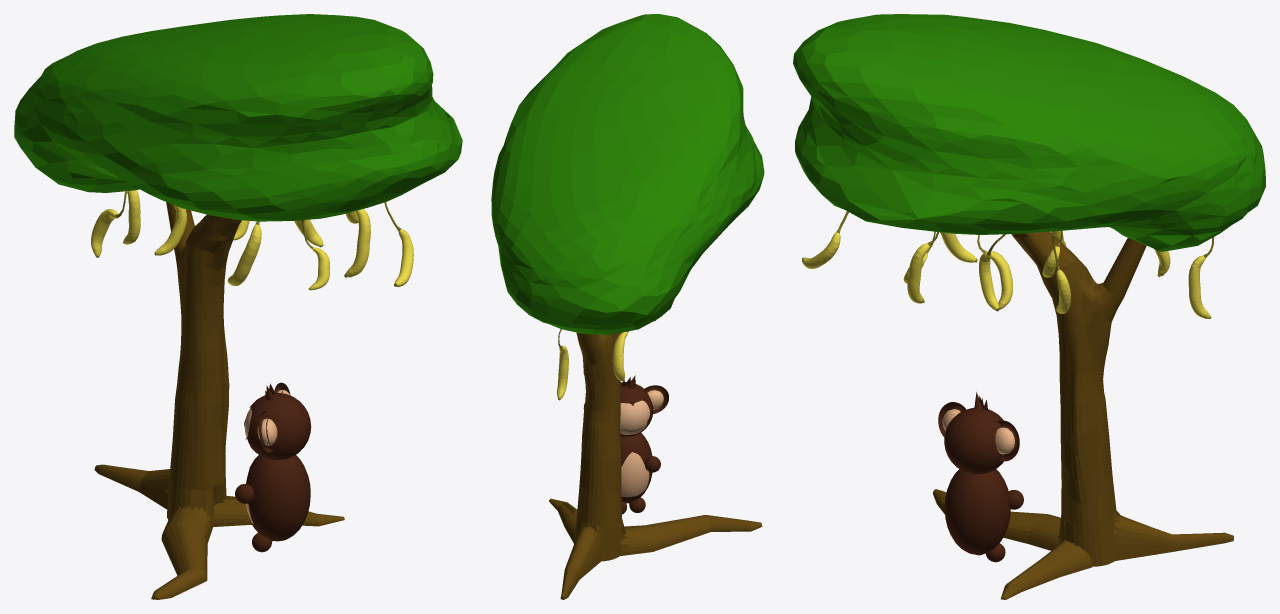
File: banana_tree-1_monkeys.fbx
3 renders of one model, left to right at view 1: azimuth 30°, elevation 25°; view 2: azimuth 150°, elevation 25°; view 3: azimuth 270°, elevation 25°, orthographic. The views are drawn at different scales.
Visible parts, largest first — view 1: Sphere.010; view 2: Sphere.010; view 3: Sphere.010.
Part boxes in pixels (x1,y1,x2,y2): Sphere.010: [14, 14, 462, 599]; Sphere.010: [491, 14, 764, 599]; Sphere.010: [793, 14, 1265, 599].
Bounding box in the file's own units: 1046 × 1792 × 1424.
